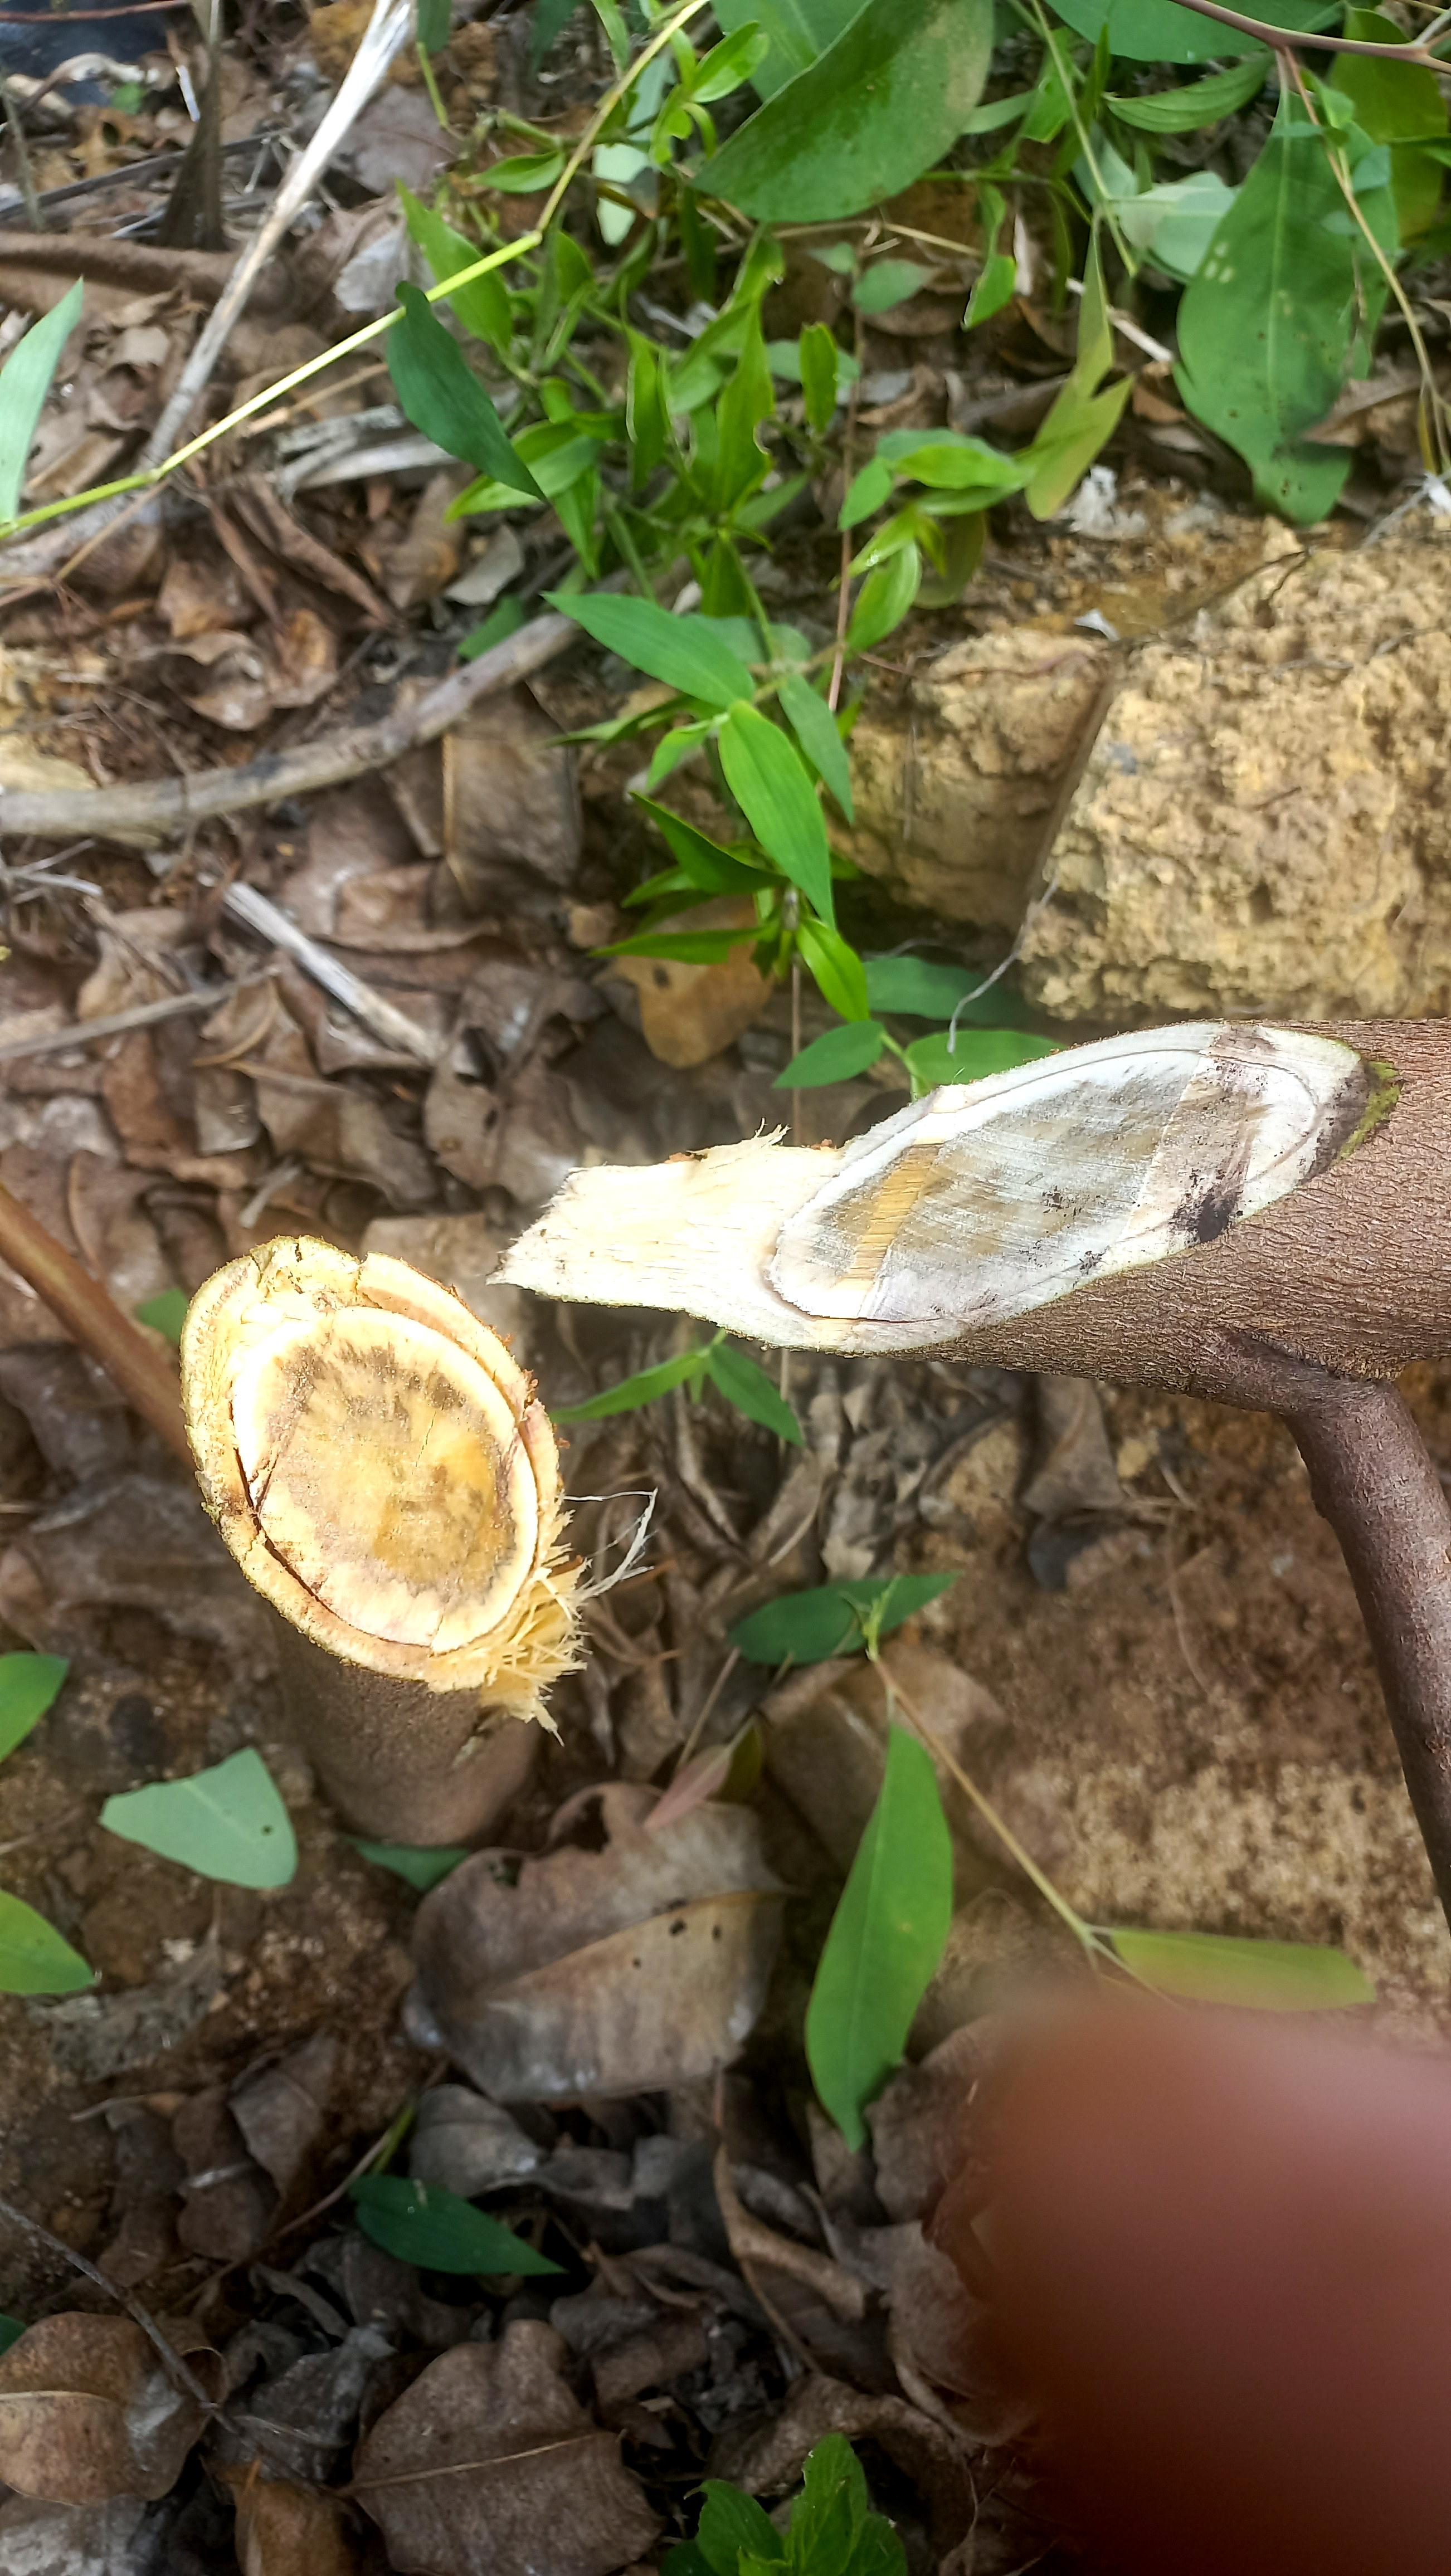Ralstonia: (352, 1357, 475, 1456), (265, 1360, 333, 1513), (960, 1144, 1138, 1185), (310, 1524, 404, 1584), (1045, 1093, 1165, 1134), (809, 1204, 859, 1271), (417, 1563, 484, 1613), (921, 1197, 989, 1245), (1044, 1199, 1128, 1218), (1165, 1139, 1218, 1169)
